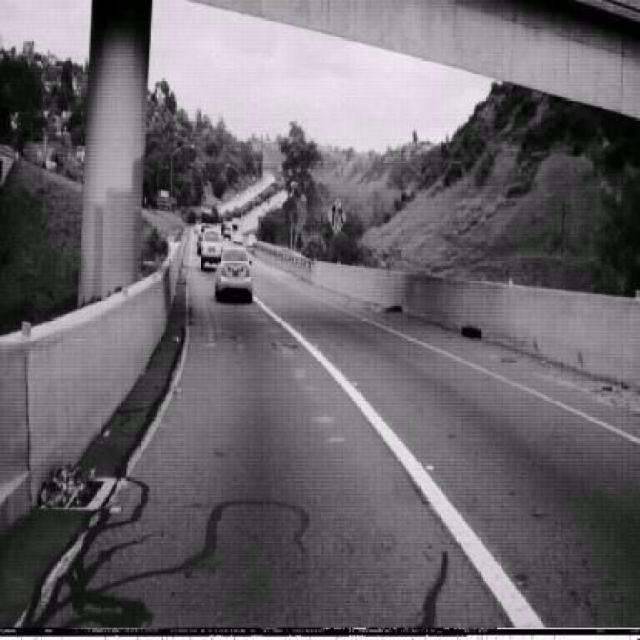addedLane: (326, 195, 348, 237)
